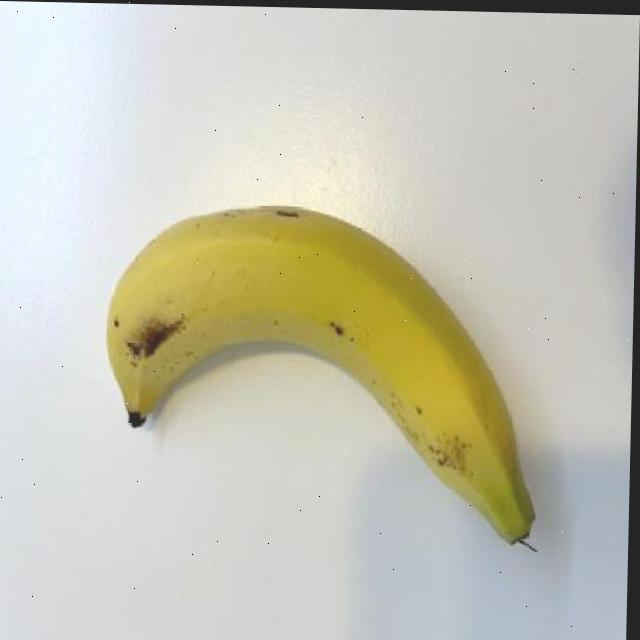banana: (92, 195, 543, 556)
